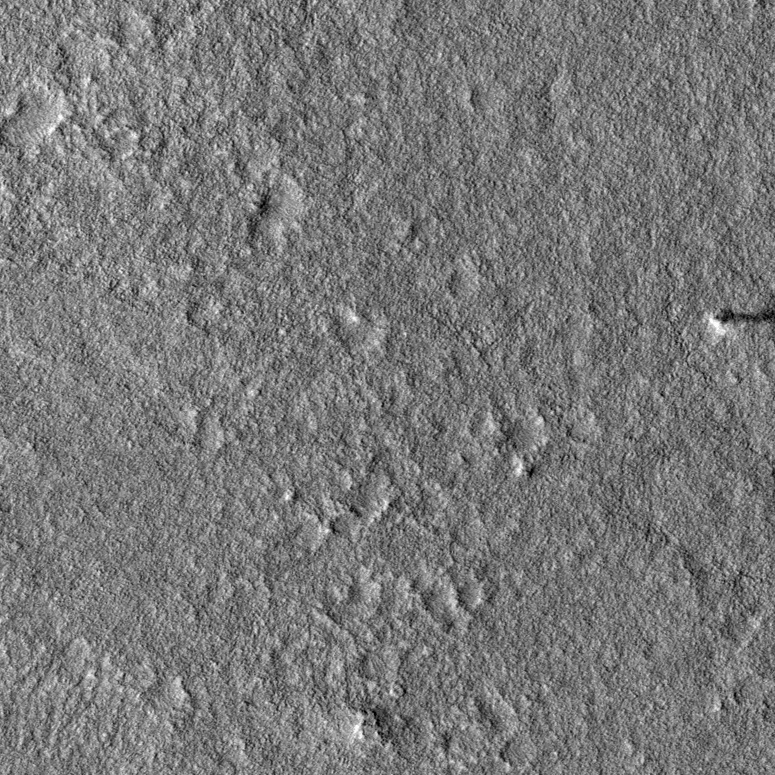dust_devil: (707, 306, 775, 337)
